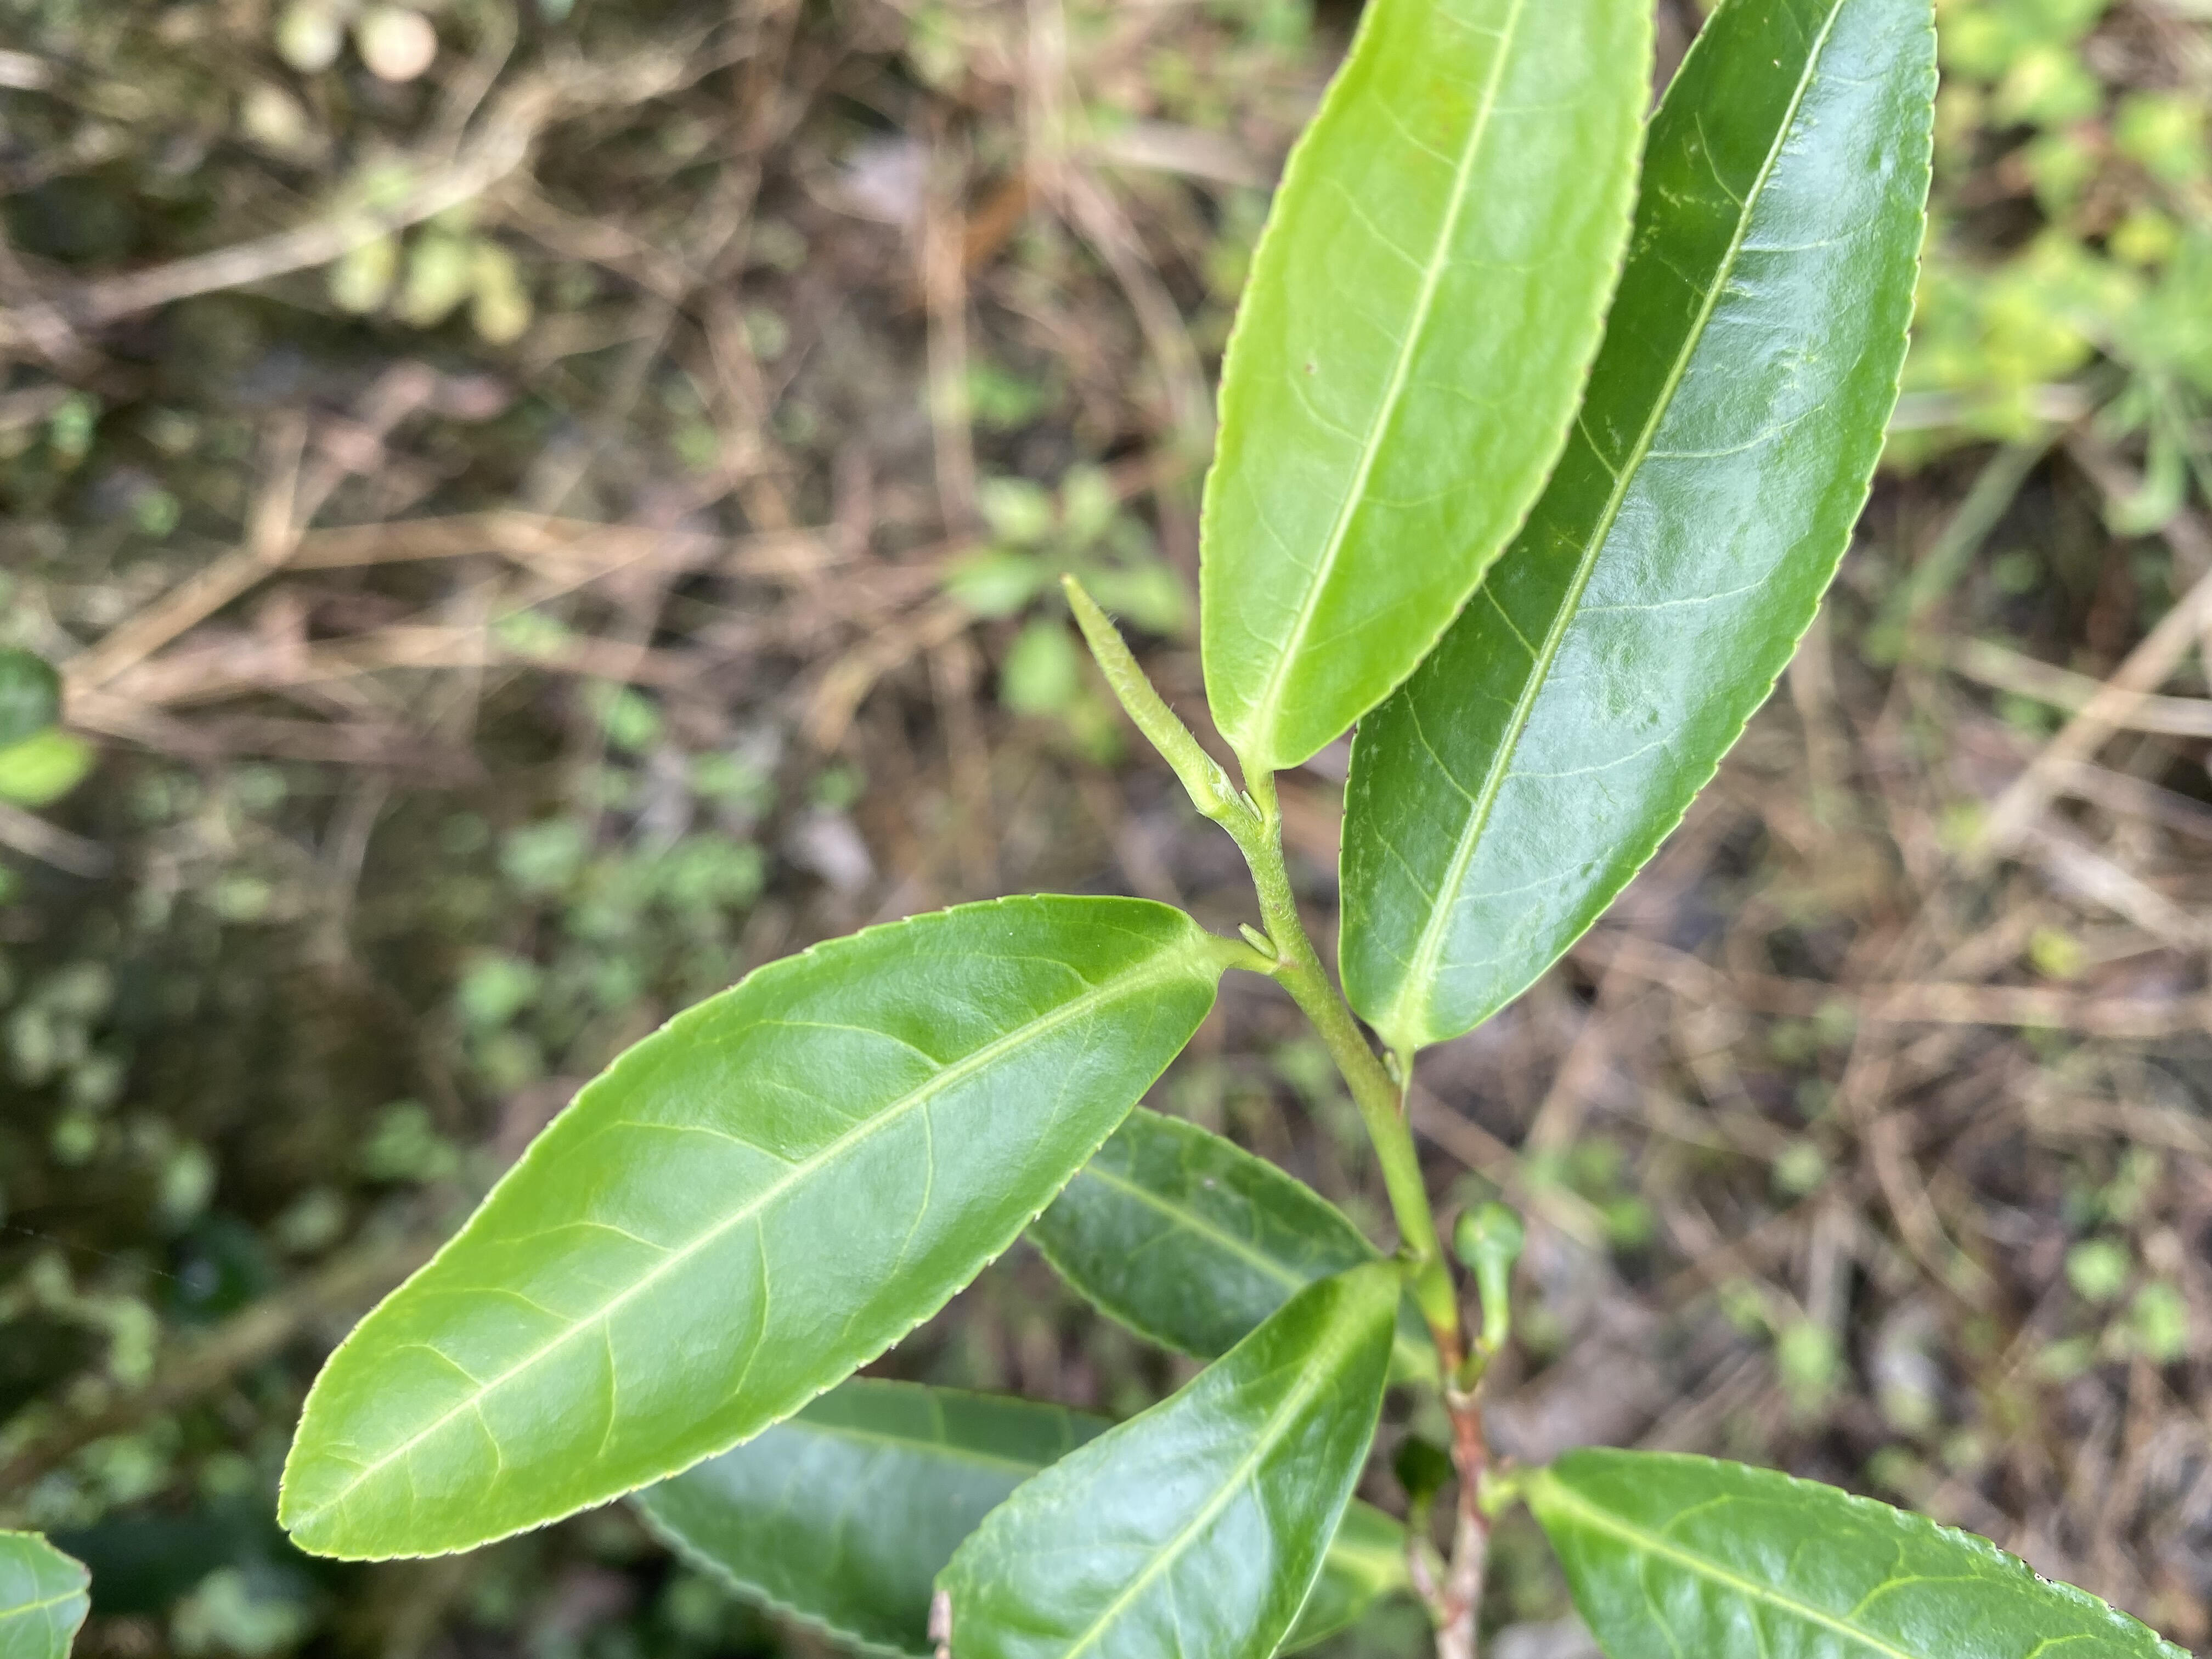healthy: (1334, 2, 1940, 1054), (273, 889, 1216, 1560), (1191, 3, 1662, 786), (1529, 1443, 2202, 1657)
